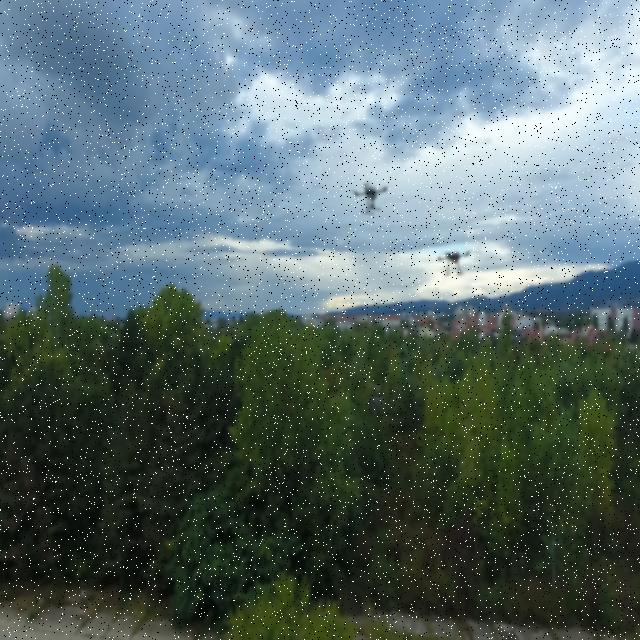UAV: (422, 244, 482, 283), (348, 177, 390, 216)
